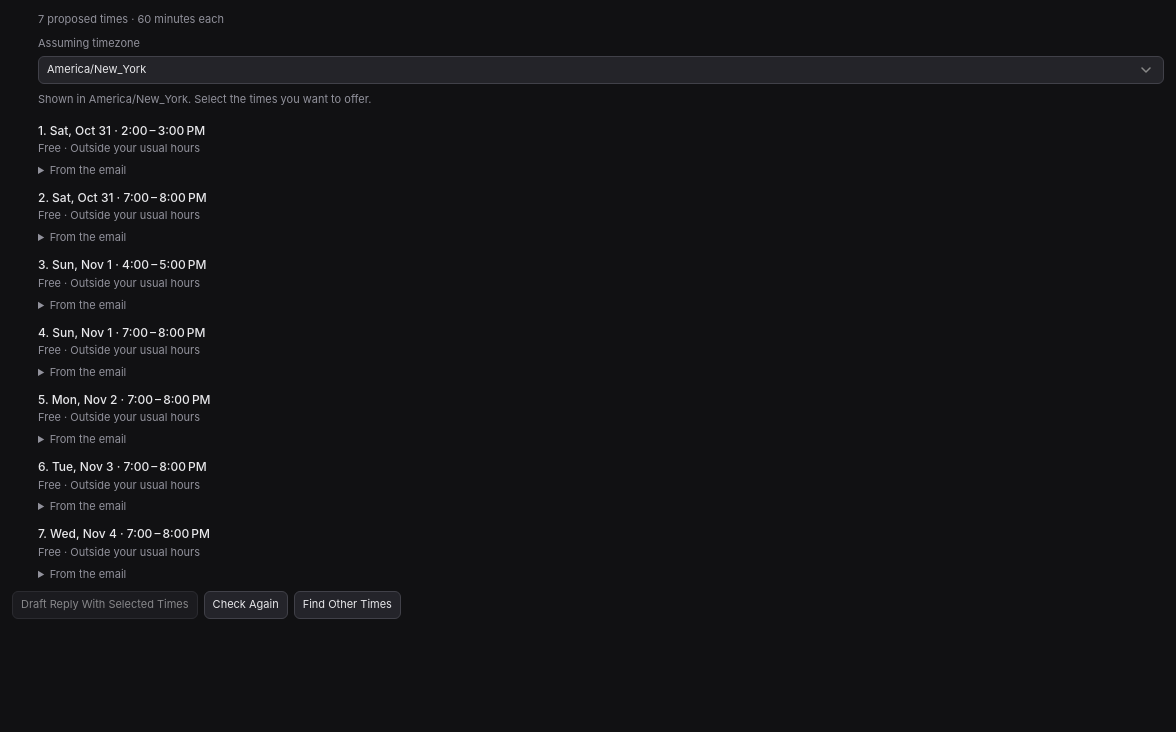
Test: proposed times › blocks a stale claim when a selected time gains a conflict or coverage is lost
The width and height of the screenshot is (1176, 732).
Click the button that starts with "2. Sat, Oct 31 · 7:00 – 8:00 PM": {"x": 122, "y": 198} x1=16 y1=183 x2=1160 y2=230
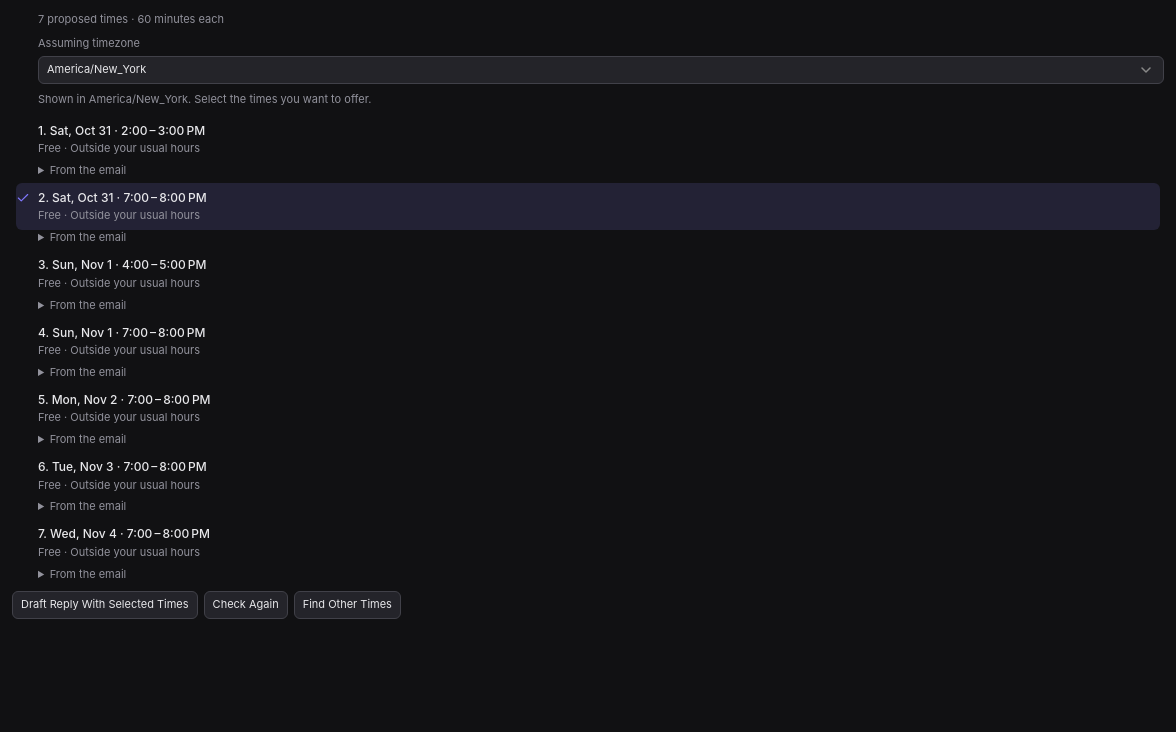
Click the button "Draft Reply With Selected Times": {"x": 105, "y": 605} x1=12 y1=591 x2=198 y2=619
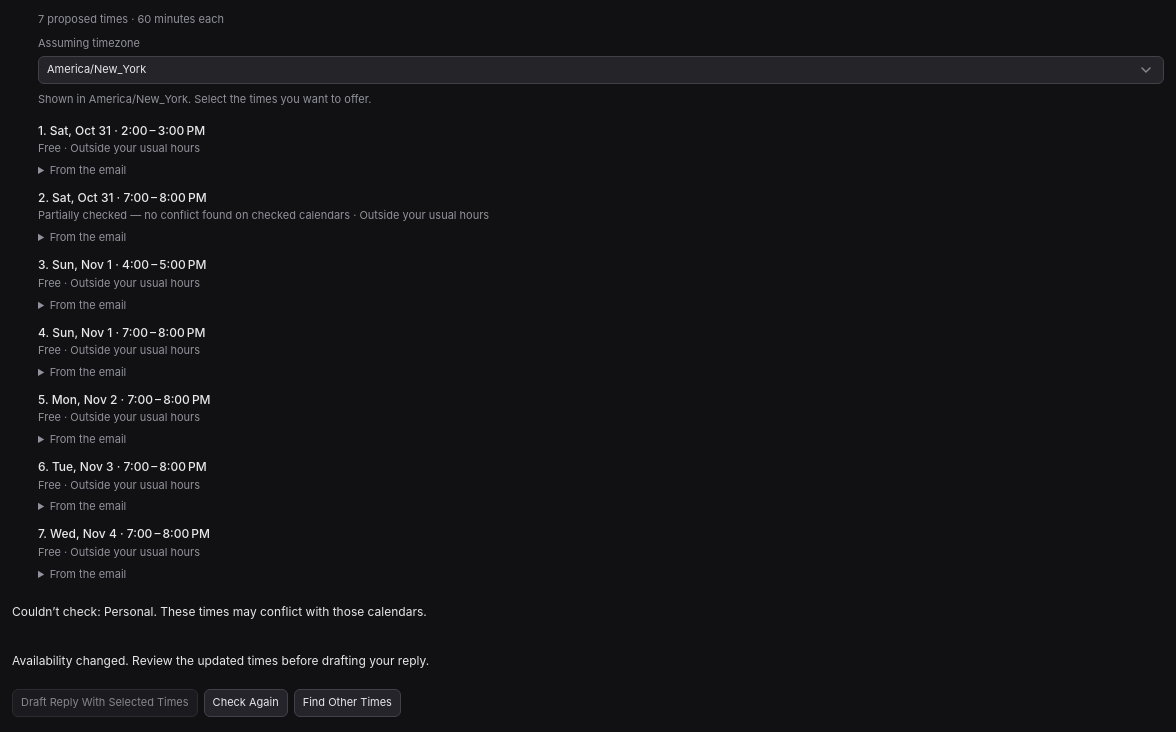
Expected: the message "Availability changed. Review the updated times before drafting your reply." is shown, x1=12 y1=653 x2=429 y2=668
